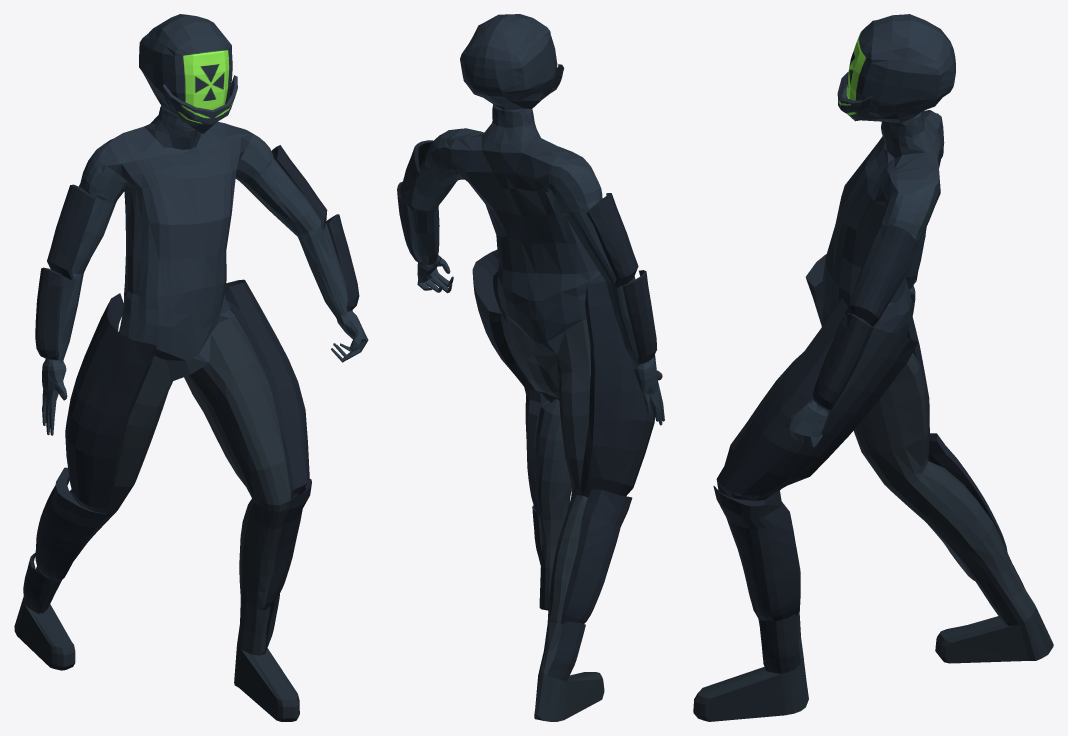
File: Bastion_Hit_Recover_000002.obj
3 renders of one model, left to right at view 1: azimuth 30°, elevation 25°; view 2: azimuth 150°, elevation 25°; view 3: azimuth 270°, elevation 25°, orthographic. The views are drawn at different scales.
Parts seen in each view (by area): view 1: Cube.002; view 2: Cube.002; view 3: Cube.002.
Boxes of the visible parts, x1=… form: Cube.002: x1=14, y1=14, x2=368, y2=721; Cube.002: x1=397, y1=14, x2=664, y2=721; Cube.002: x1=693, y1=14, x2=1053, y2=721.
Size of the model in its own units: 1.71 by 3.67 by 1.72.
